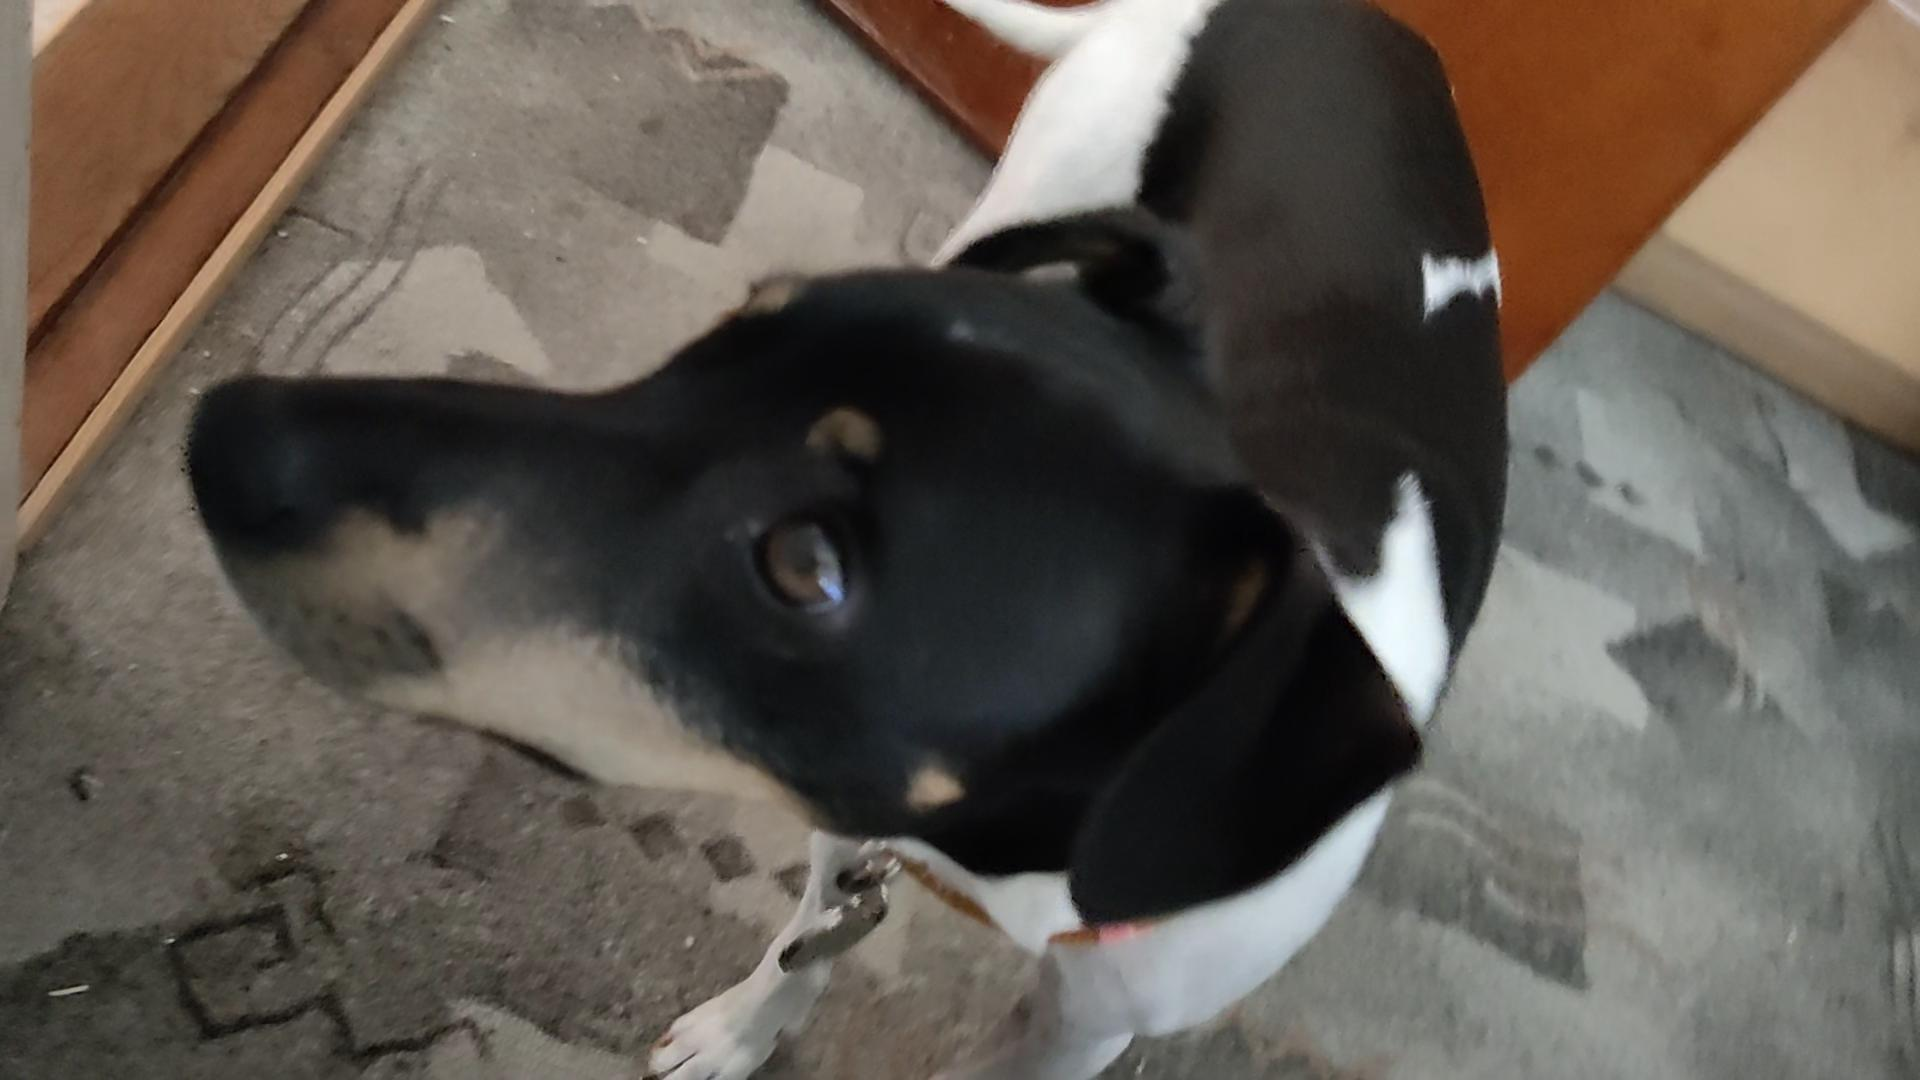Dog: (174, 0, 1542, 1080)
